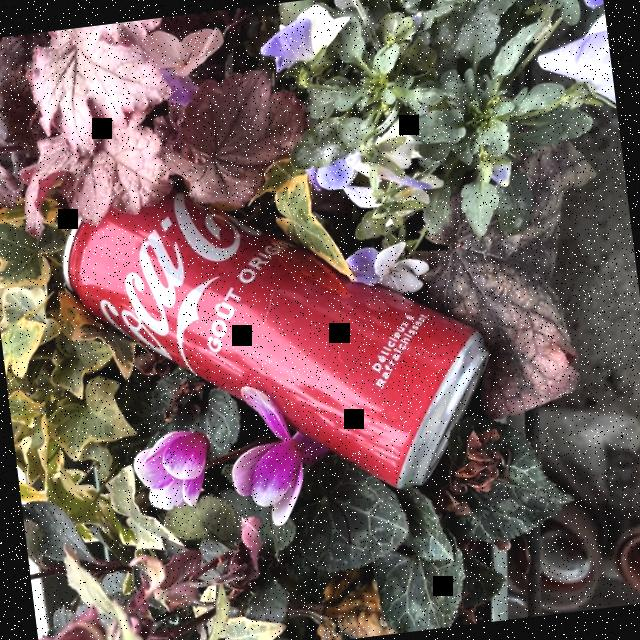can: (49, 148, 515, 534)
